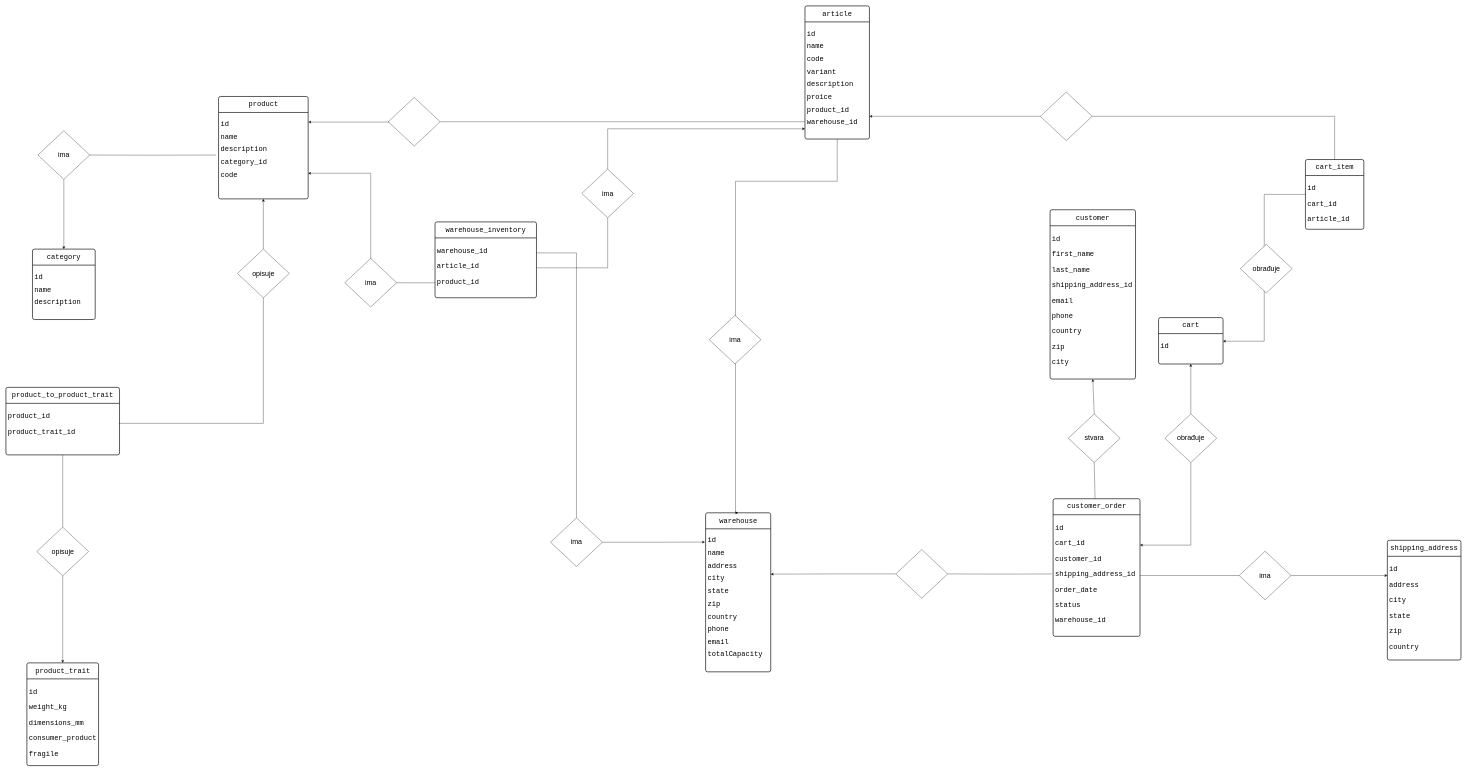
This 1467x771 diagram has some shape labels left out. Here are the shapes that lost their labels. From the top down, the centre of each, then its label:
At (x=414, y=121): "se temelji na".
At (x=1066, y=116): "sadrži".
At (x=922, y=573): "isporučuje".
